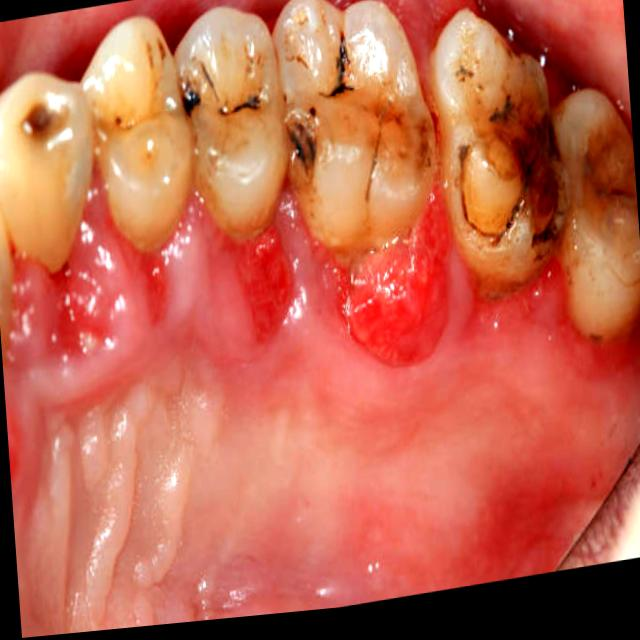calculus: (431, 9, 562, 289), (581, 135, 637, 210), (22, 104, 67, 140), (290, 122, 317, 168), (331, 34, 350, 94), (221, 97, 260, 111), (183, 86, 200, 113)
